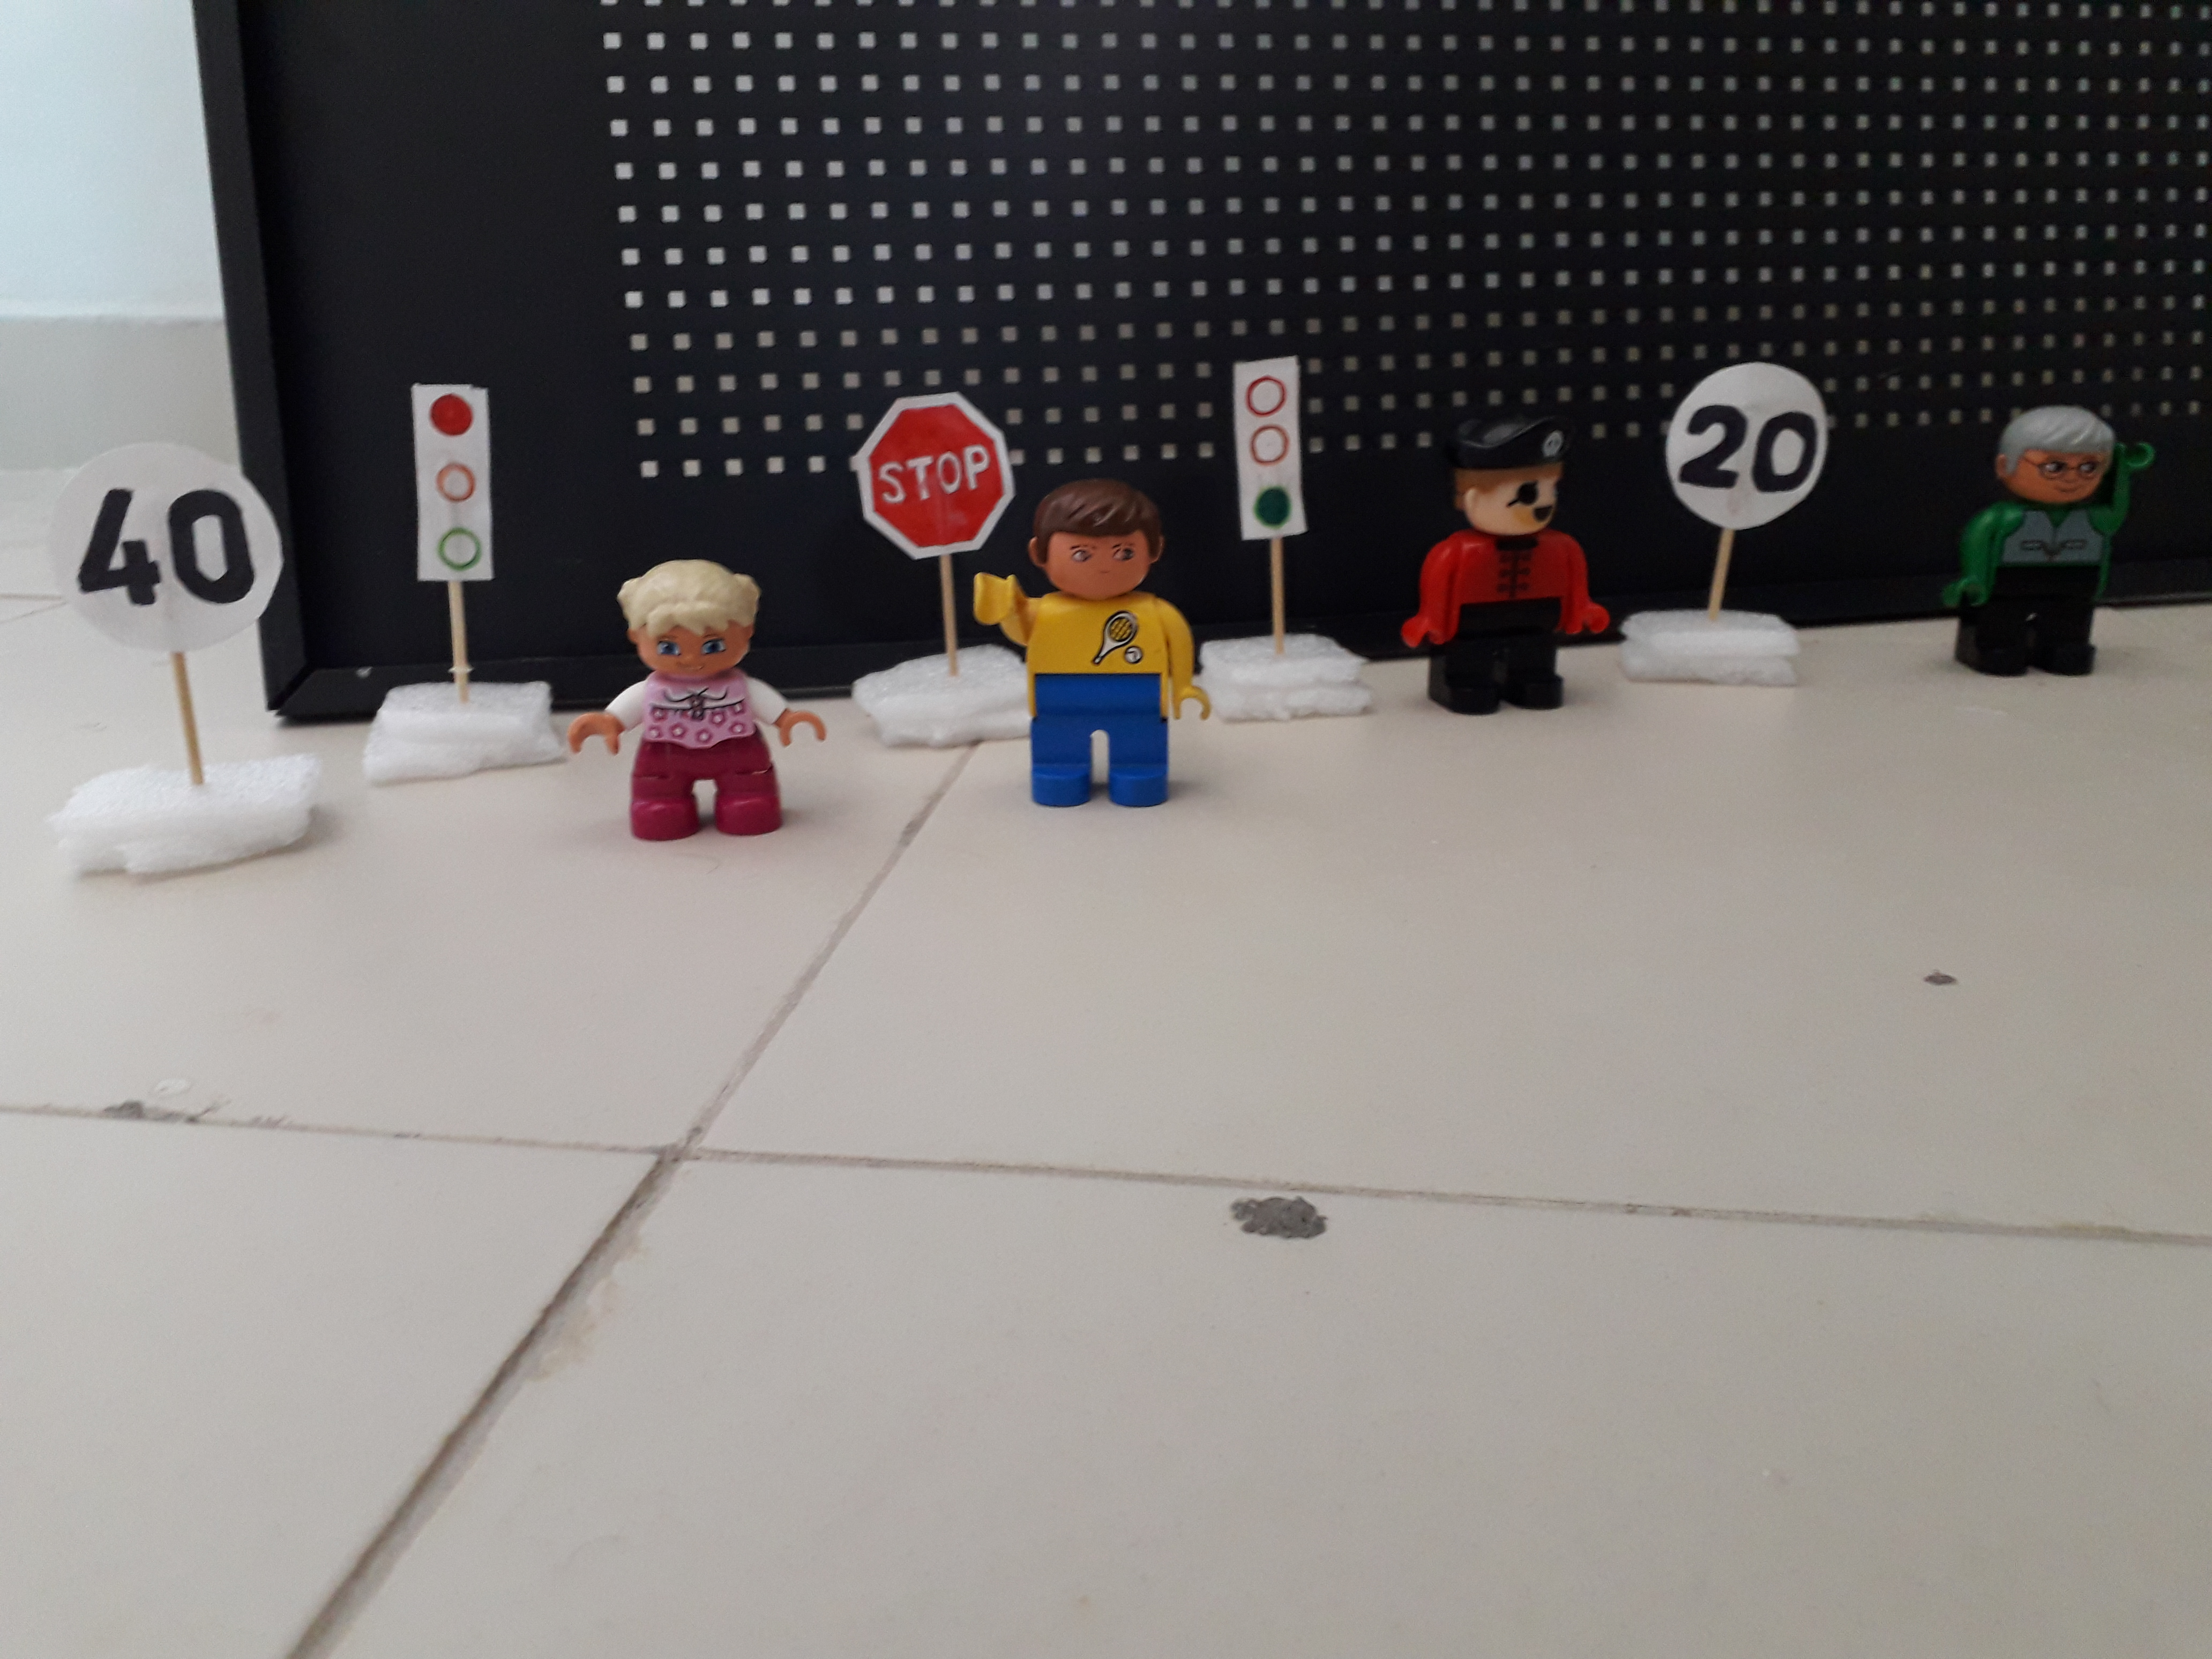20_sign: (1663, 360, 1834, 533)
40_sign: (69, 436, 288, 671)
green_light: (1237, 357, 1321, 551)
person: (972, 480, 1214, 816), (571, 558, 824, 849), (1401, 406, 1625, 722), (1929, 403, 2169, 691)
red_light: (413, 380, 505, 587)
stop_sign: (847, 383, 1018, 569)
